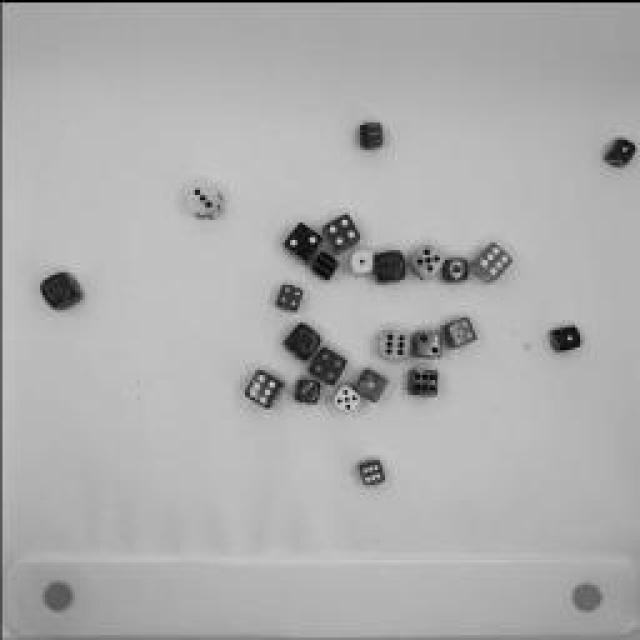dice_1: (600, 136, 635, 169), (549, 321, 579, 354), (356, 365, 389, 395), (442, 254, 470, 286), (348, 243, 372, 275)
dice_2: (281, 222, 324, 252), (282, 320, 322, 352), (412, 329, 442, 359)
dice_3: (190, 178, 222, 218), (292, 378, 322, 402)
dice_4: (39, 266, 81, 314), (325, 209, 360, 249), (312, 345, 346, 380), (270, 281, 305, 311)
dice_5: (408, 242, 442, 278), (444, 312, 471, 350), (334, 383, 358, 415)
dice_6: (468, 240, 512, 285), (241, 365, 284, 410), (373, 247, 405, 285), (405, 365, 440, 397), (376, 328, 409, 360), (355, 456, 385, 489), (310, 250, 342, 280), (358, 119, 382, 149)
